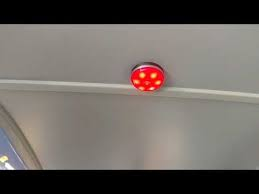bell: (129, 62, 167, 95)
